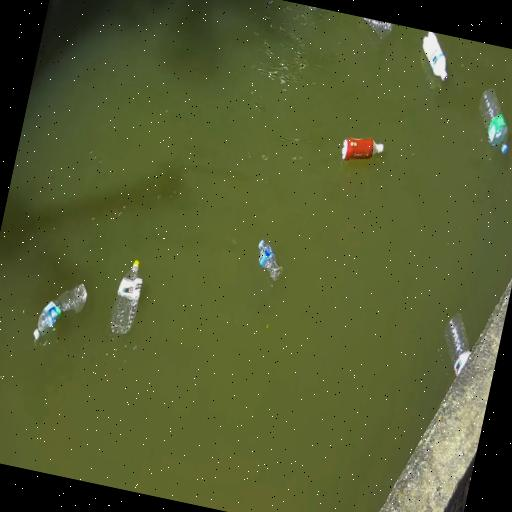plastic: (33, 284, 87, 341), (110, 260, 142, 340), (480, 89, 508, 154), (445, 314, 471, 376), (423, 32, 447, 81), (258, 240, 282, 286), (342, 138, 384, 161), (363, 17, 393, 39)
